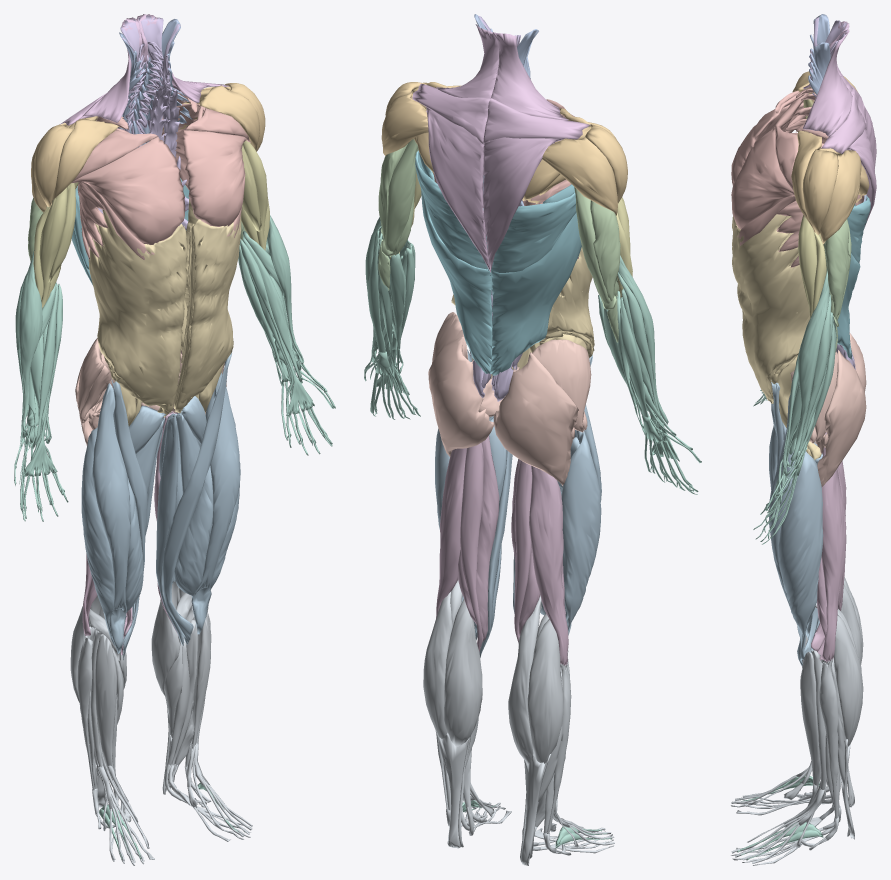
Rendered from bodybuilder-muscles.glb.
The picture shows the model from 3 angles, left to right: view 1: azimuth 30°, elevation 25°; view 2: azimuth 150°, elevation 25°; view 3: azimuth 270°, elevation 25°; orthographic projection. The views are drawn at different scales.
Visible parts, largest first — view 1: Quads, Core, Calves, Chest, Forearms, Shoulders, Biceps, Lower Back, Traps, Glutes, Upper Back, Hamstrings (+1 smaller); view 2: Calves, Traps, Lats, Hamstrings, Glutes, Forearms, Quads, Shoulders, Triceps, Core, Lower Back, Biceps; view 3: Calves, Core, Chest, Quads, Forearms, Shoulders, Traps, Glutes, Hamstrings, Biceps, Triceps, Lats (+2 smaller).
Boxes of the visible parts, x1,y1,x2,y2 form: Quads: (81, 352, 240, 660); Core: (88, 198, 241, 426); Calves: (70, 580, 252, 865); Chest: (71, 93, 250, 260); Forearms: (14, 215, 335, 859); Shoulders: (31, 83, 265, 212); Biceps: (33, 114, 269, 308); Lower Back: (97, 15, 188, 229); Traps: (60, 14, 229, 125); Glutes: (75, 338, 226, 445); Upper Back: (119, 19, 192, 147); Hamstrings: (82, 411, 178, 655); Calves: (423, 580, 614, 865); Traps: (412, 26, 590, 272); Lats: (415, 150, 581, 375); Hamstrings: (436, 435, 568, 665); Glutes: (428, 312, 591, 485); Forearms: (364, 217, 701, 848); Quads: (435, 350, 601, 657); Shoulders: (381, 82, 627, 215); Triceps: (378, 139, 620, 342); Core: (451, 247, 594, 377); Lower Back: (472, 16, 538, 401); Biceps: (389, 108, 632, 297); Calves: (731, 577, 863, 865); Core: (732, 214, 821, 460); Chest: (731, 88, 864, 267); Quads: (769, 380, 823, 665); Forearms: (737, 268, 836, 860); Shoulders: (791, 71, 869, 244); Traps: (803, 21, 876, 228); Glutes: (790, 332, 866, 486); Hamstrings: (811, 432, 846, 662); Biceps: (798, 94, 826, 318); Triceps: (823, 219, 851, 352); Lats: (837, 196, 870, 359).
Size of the model in its own units: 0.8838 by 2.1 by 0.346.
